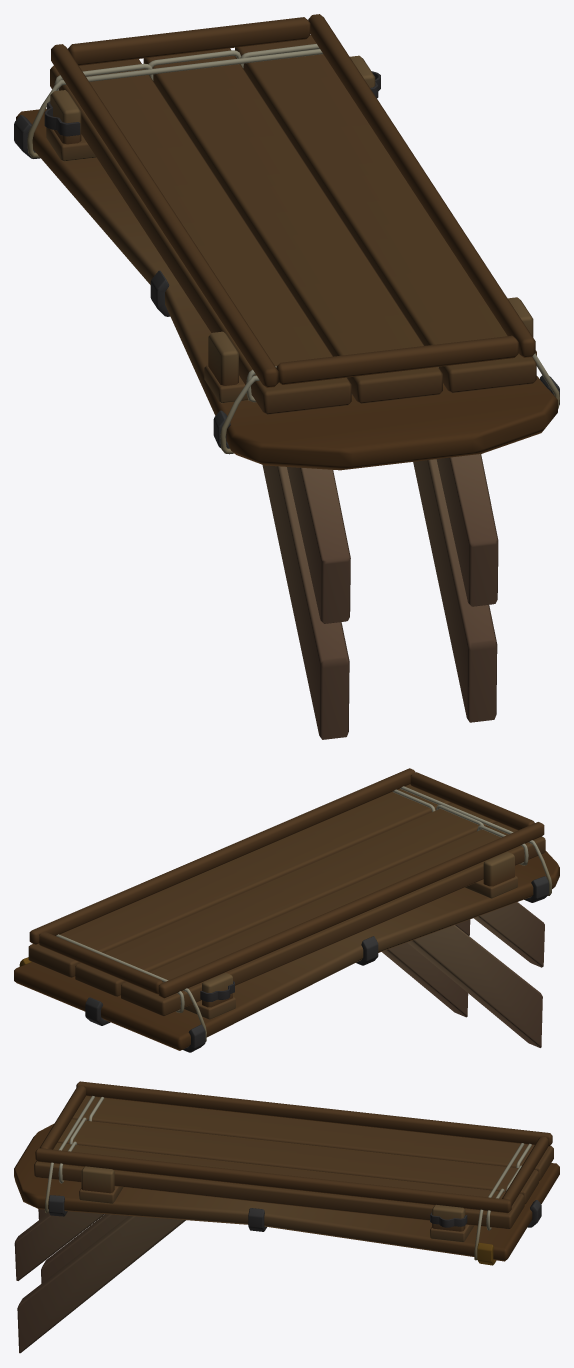
The model's file is Platform2.fbx.
3 views of the same model, one above another, from view 1: azimuth 30°, elevation 25°; view 2: azimuth 150°, elevation 25°; view 3: azimuth 270°, elevation 25° (orthographic). The views are drawn at different scales.
Parts seen in each view (by area): view 1: Cube.072; view 2: Cube.072; view 3: Cube.072.
Boxes of the visible parts, x1,y1,x2,y2 form: Cube.072: (14, 14, 559, 739); Cube.072: (14, 768, 559, 1052); Cube.072: (14, 1081, 559, 1353).
Bounding box in the file's own units: 378 × 279 × 630.
